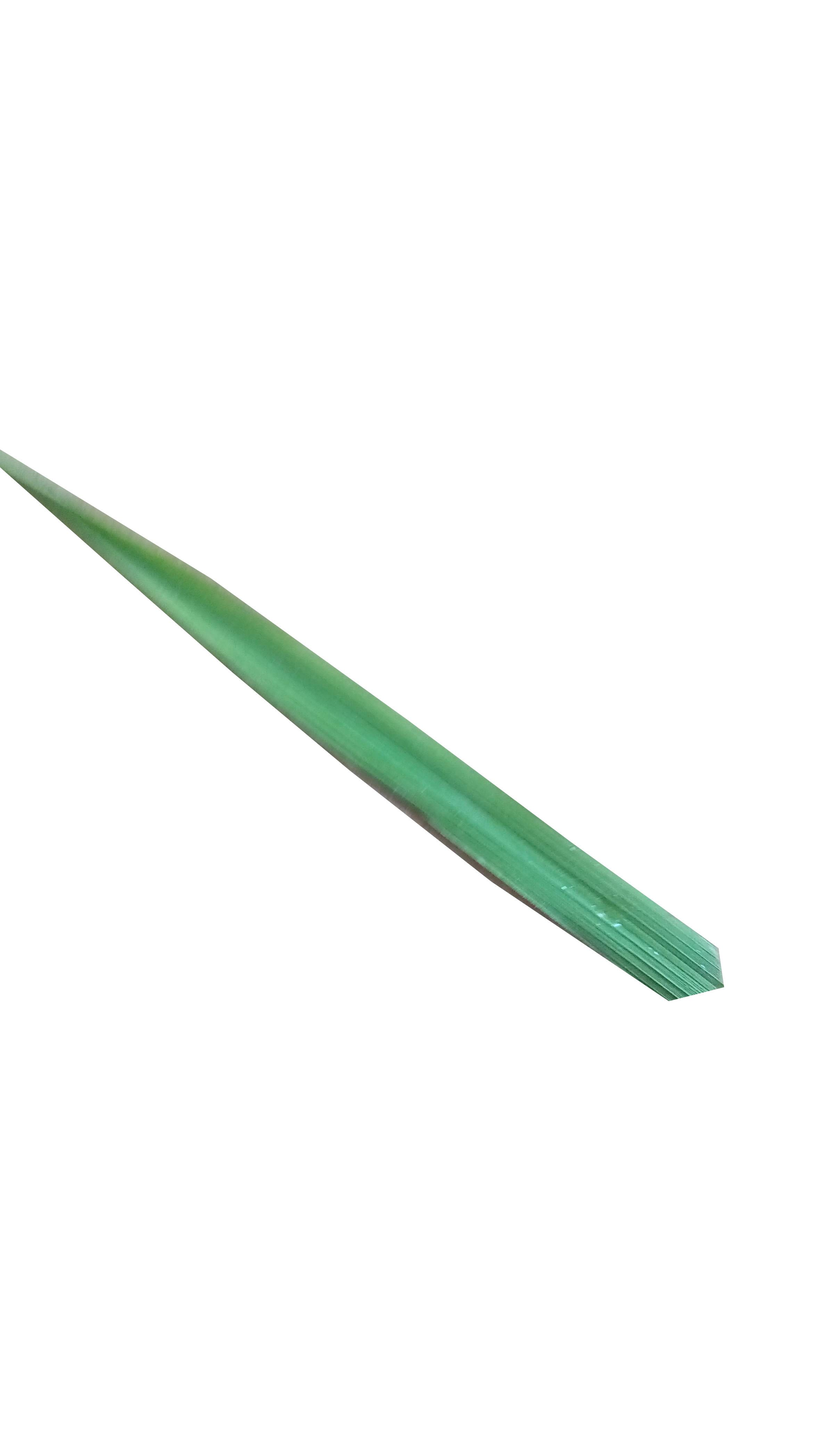Healthy: (0, 448, 725, 1008)
